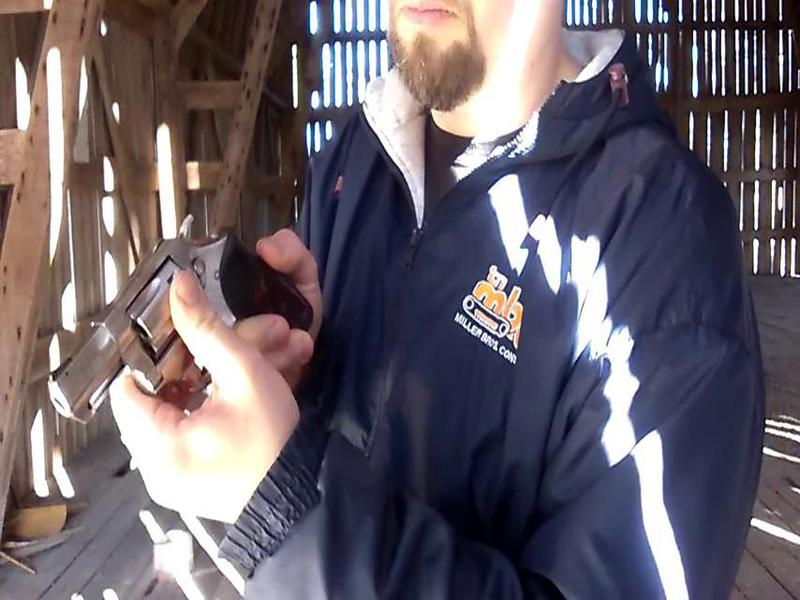Revolver: (41, 221, 309, 433)
